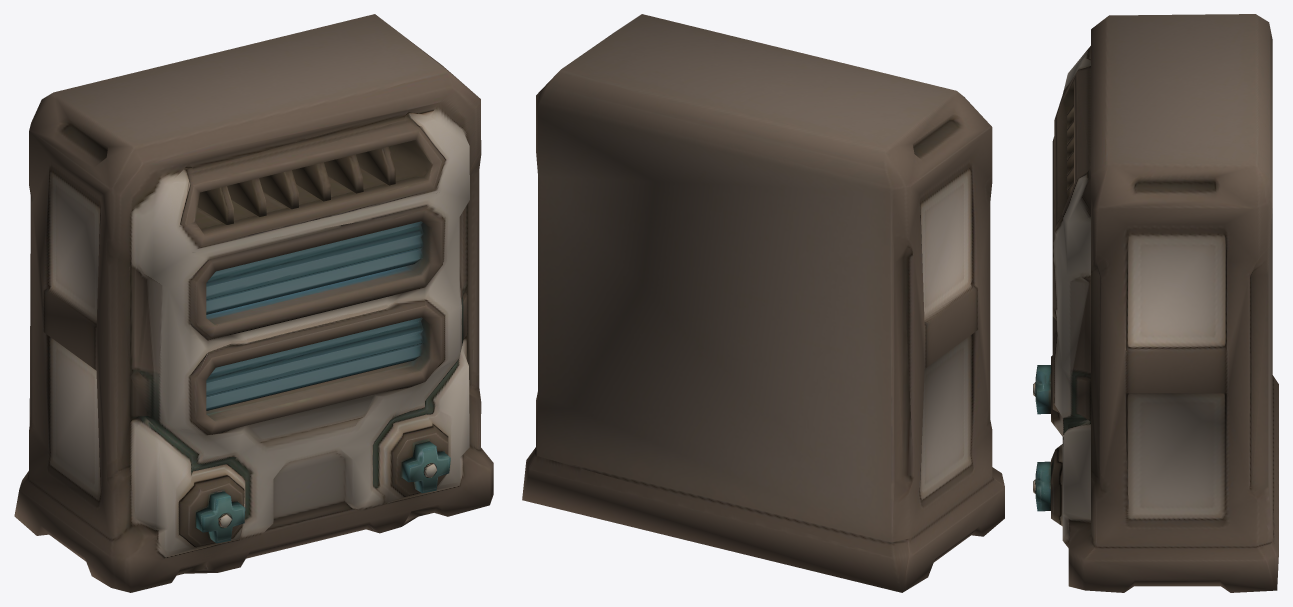
The model's file is LSReal_CargoCrate.fbx.
3 renders of one model, left to right at view 1: azimuth 30°, elevation 25°; view 2: azimuth 150°, elevation 25°; view 3: azimuth 270°, elevation 25°, orthographic. The views are drawn at different scales.
Visible parts, largest first — view 1: tripo_node_76496ded-e453-4c50-a340-d7c80fd7ee2d; view 2: tripo_node_76496ded-e453-4c50-a340-d7c80fd7ee2d; view 3: tripo_node_76496ded-e453-4c50-a340-d7c80fd7ee2d.
Boxes of the visible parts, x1=… form: tripo_node_76496ded-e453-4c50-a340-d7c80fd7ee2d: x1=14, y1=14, x2=493, y2=592; tripo_node_76496ded-e453-4c50-a340-d7c80fd7ee2d: x1=522, y1=14, x2=1004, y2=592; tripo_node_76496ded-e453-4c50-a340-d7c80fd7ee2d: x1=1033, y1=14, x2=1278, y2=592.
Size of the model in its own units: 74.99 by 80 by 43.05.
Materials: 1 (1 with a texture image).
